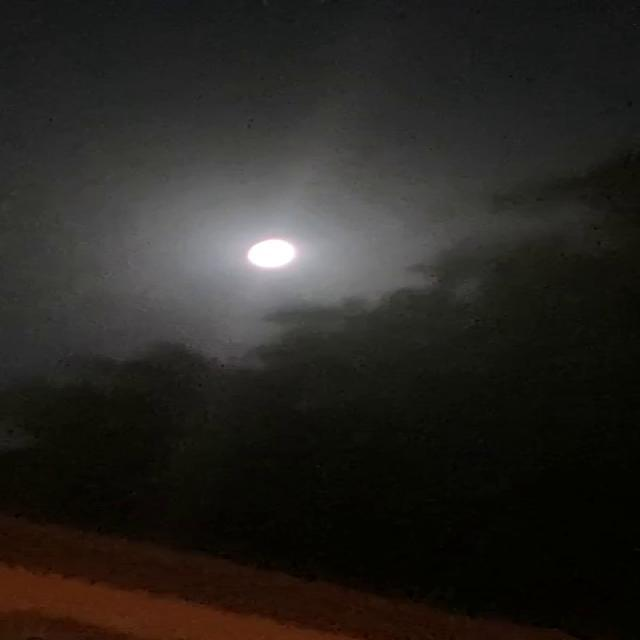moon: (212, 240, 295, 284)
